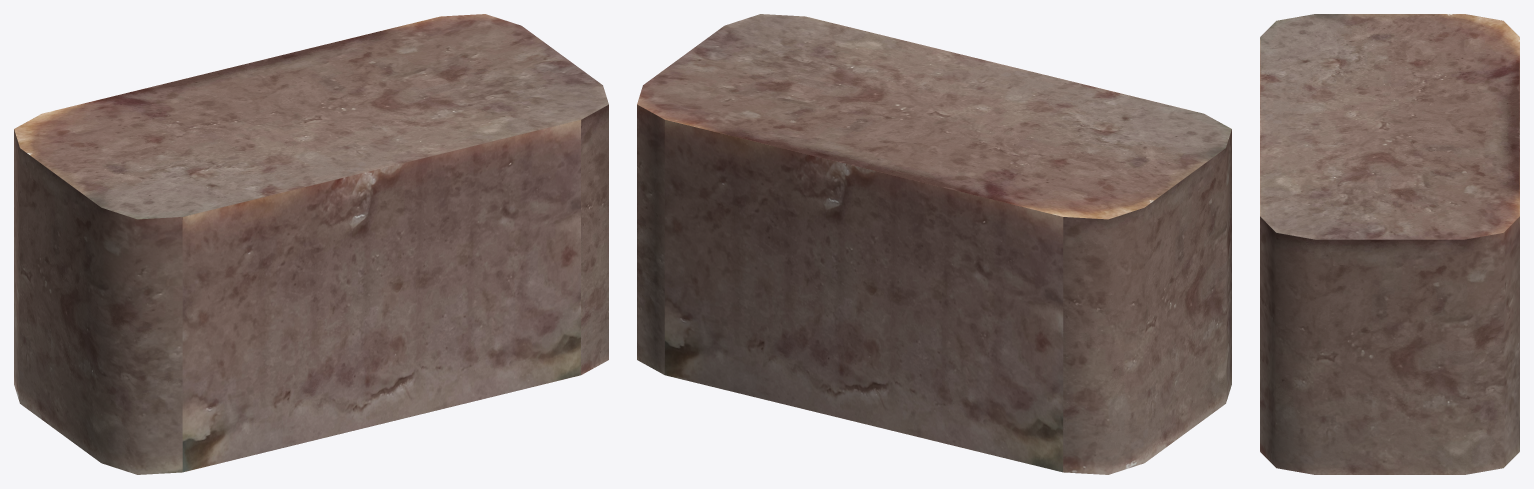
The model's file is SPAM.fbx.
3 views of the same model, side by side, from view 1: azimuth 30°, elevation 25°; view 2: azimuth 150°, elevation 25°; view 3: azimuth 270°, elevation 25° (orthographic). The views are drawn at different scales.
Parts seen in each view (by area): view 1: SPAM; view 2: SPAM; view 3: SPAM.
Boxes of the visible parts, x1=… form: SPAM: x1=14, y1=14, x2=608, y2=474; SPAM: x1=637, y1=14, x2=1231, y2=474; SPAM: x1=1260, y1=14, x2=1519, y2=474.
Bounding box in the file's own units: 4.71 × 2.29 × 2.29.
